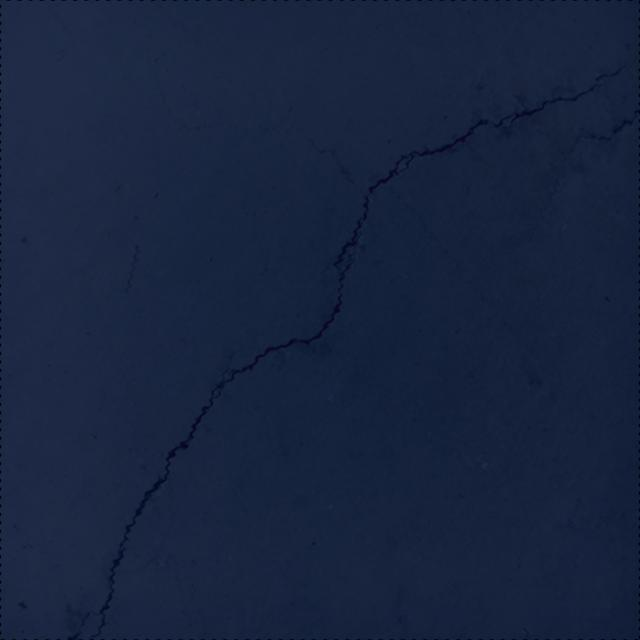crack: (67, 29, 640, 640), (529, 108, 640, 242), (160, 90, 343, 171)
